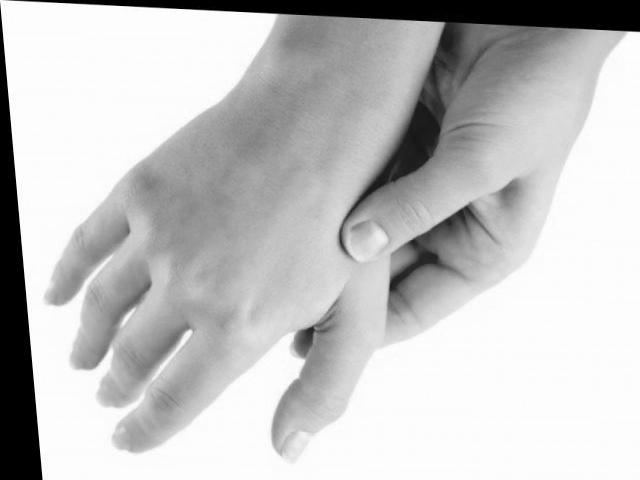not-gloved: (41, 108, 376, 458), (290, 52, 596, 356)
